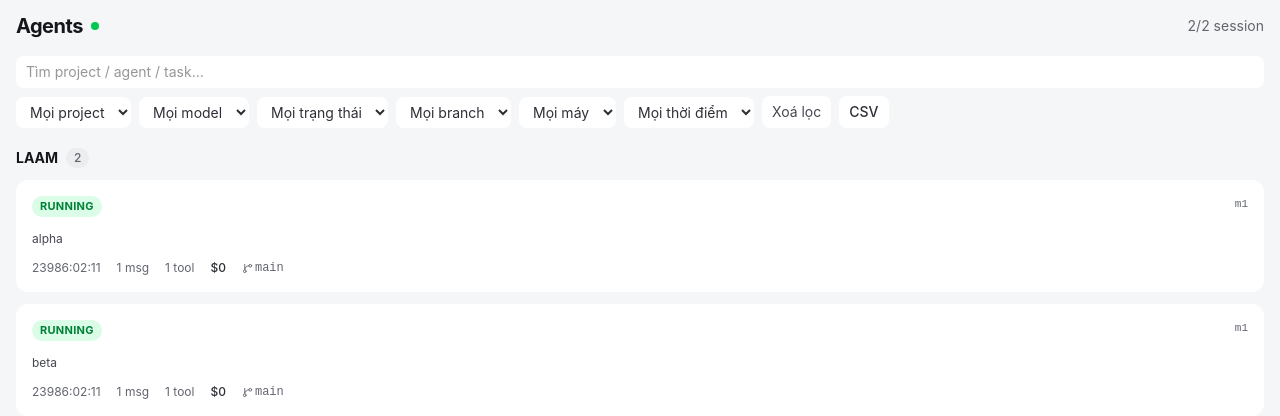
Test: typing in search narrows the visible cards live
Type "alpha" into the search field with placeholder "Tìm project / agent / task…" at (640, 72), box [16, 56, 1264, 88]
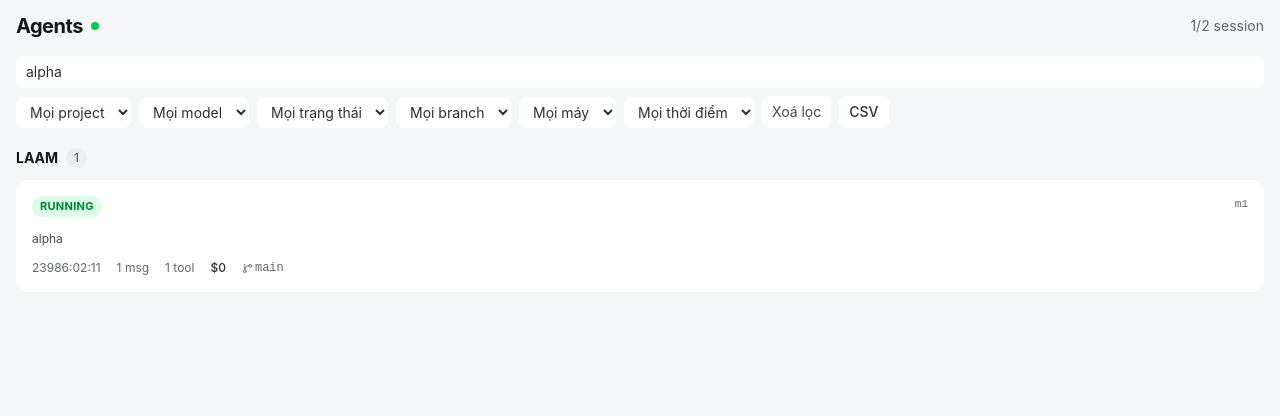
Check: the text "alpha" is shown, box [32, 230, 63, 246]
Check: the button "beta" is gone
Check: the text "1/2 session" is shown, box [1190, 16, 1264, 36]
